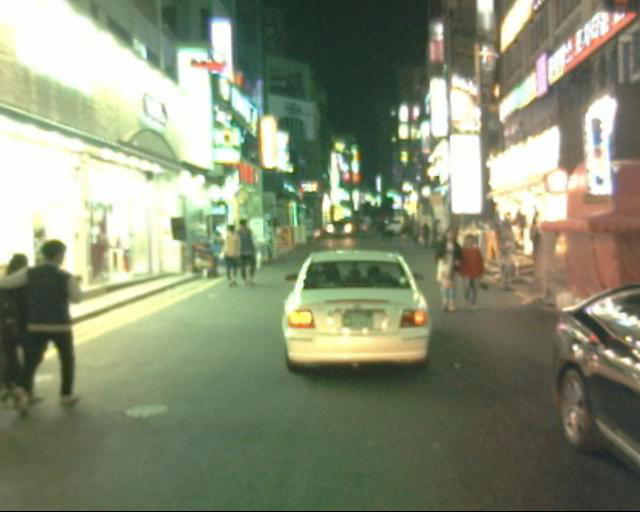person: (21, 236, 80, 417), (0, 244, 50, 411), (431, 228, 466, 316), (460, 235, 487, 317), (235, 217, 260, 286), (222, 231, 243, 287)
